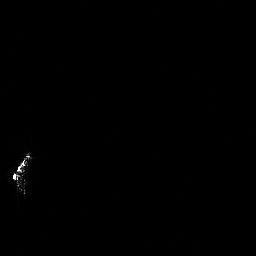ship: (9, 148, 34, 195)
